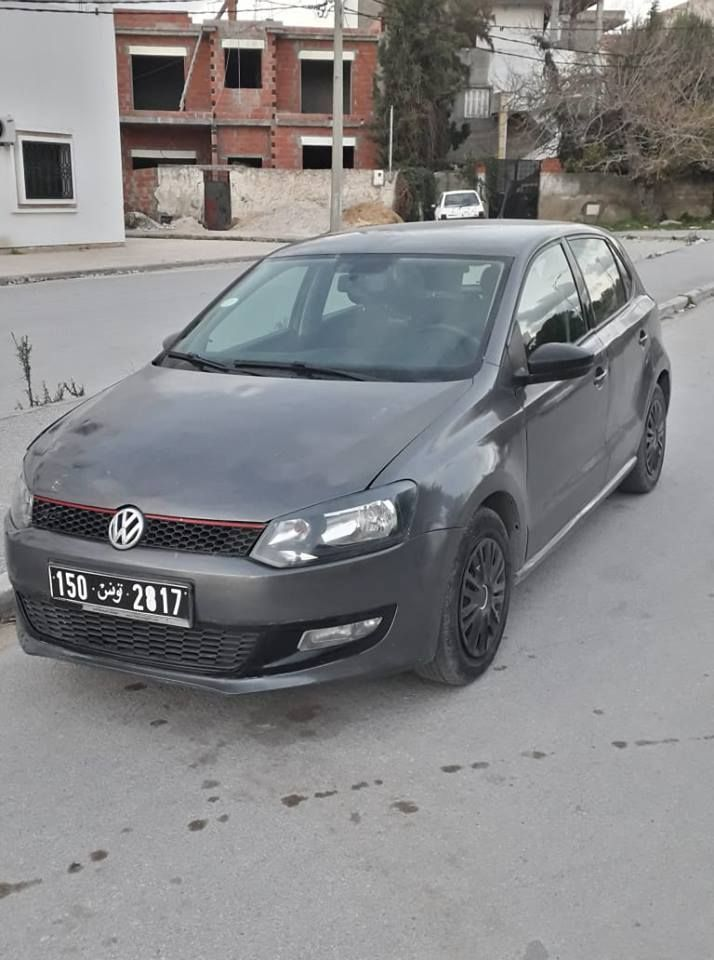LP: (48, 563, 192, 627)
